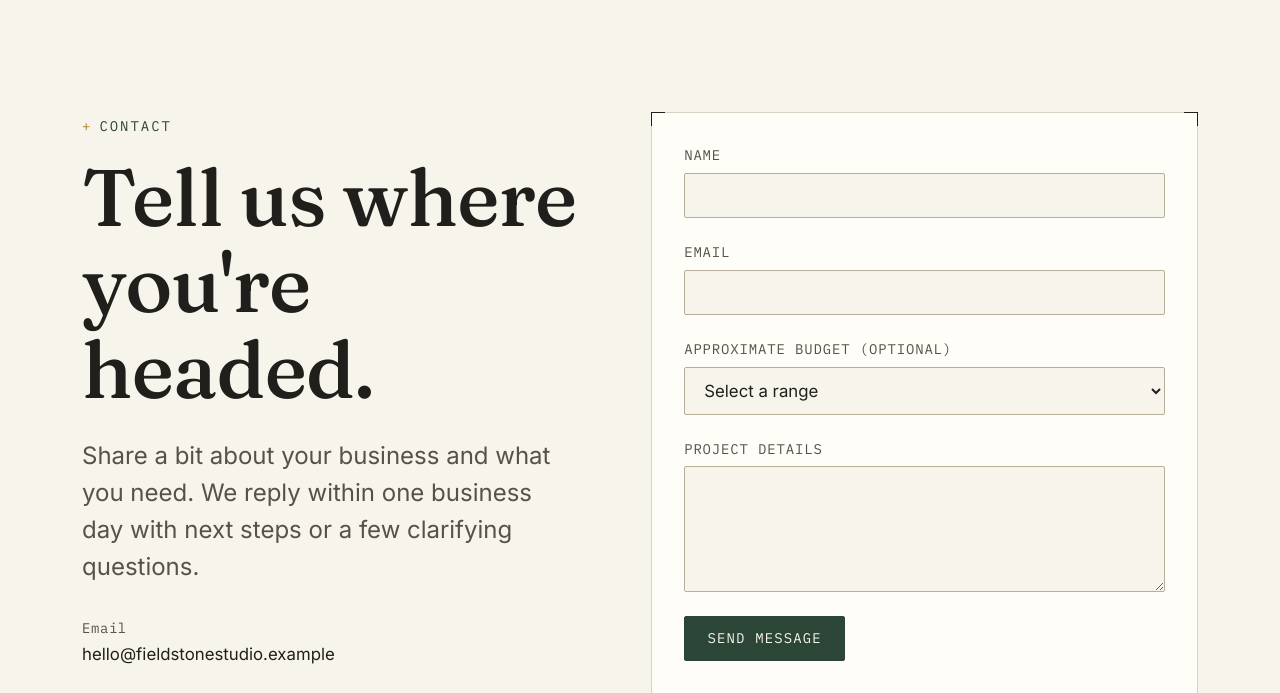
Scenario: Contact form › shows validation errors when submitted empty
The width and height of the screenshot is (1280, 693).
Click the button "Send message" at (765, 638), box [684,616,845,661]
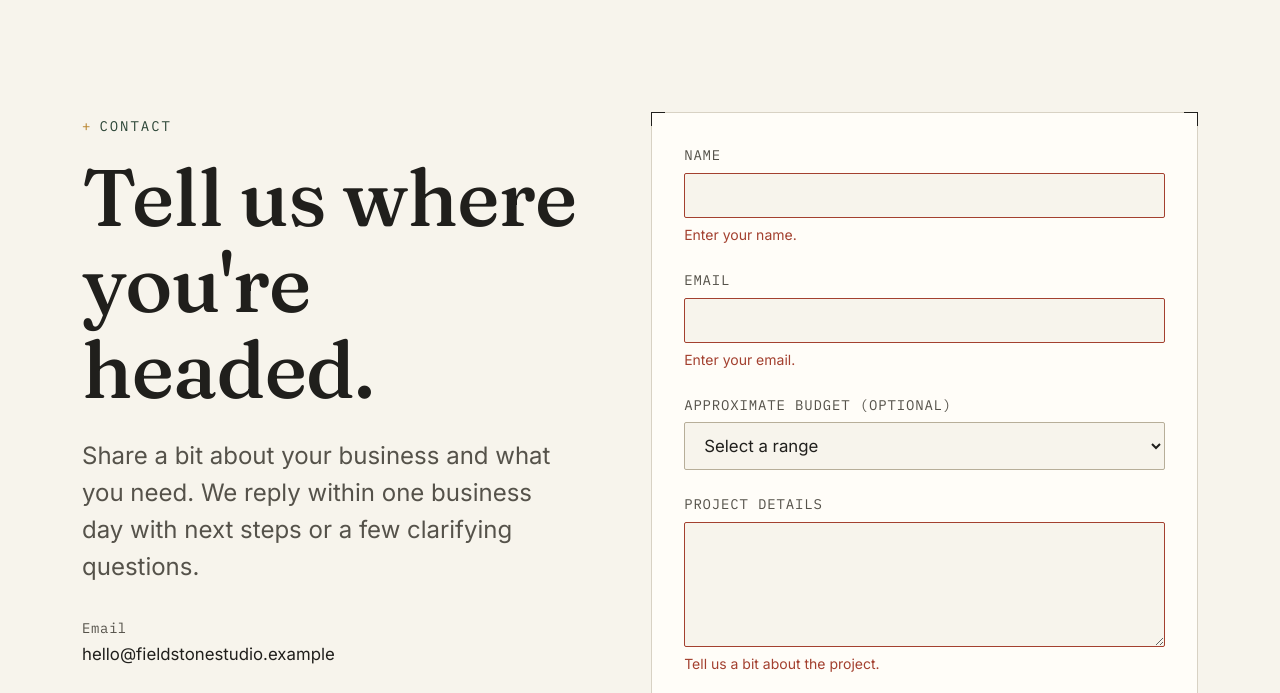
Check: the text "Enter your name." is shown, box [684,226,797,243]
Check: the text "Enter your email." is shown, box [684,351,795,368]
Check: the text "Tell us a bit about the project." is shown, box [684,655,880,672]
